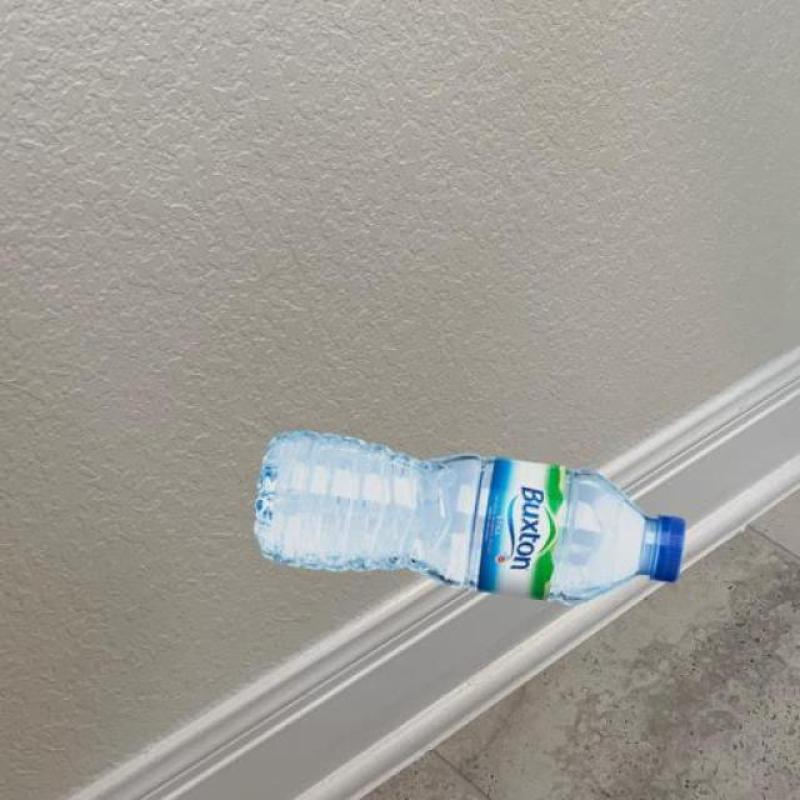botella: (250, 431, 686, 604)
